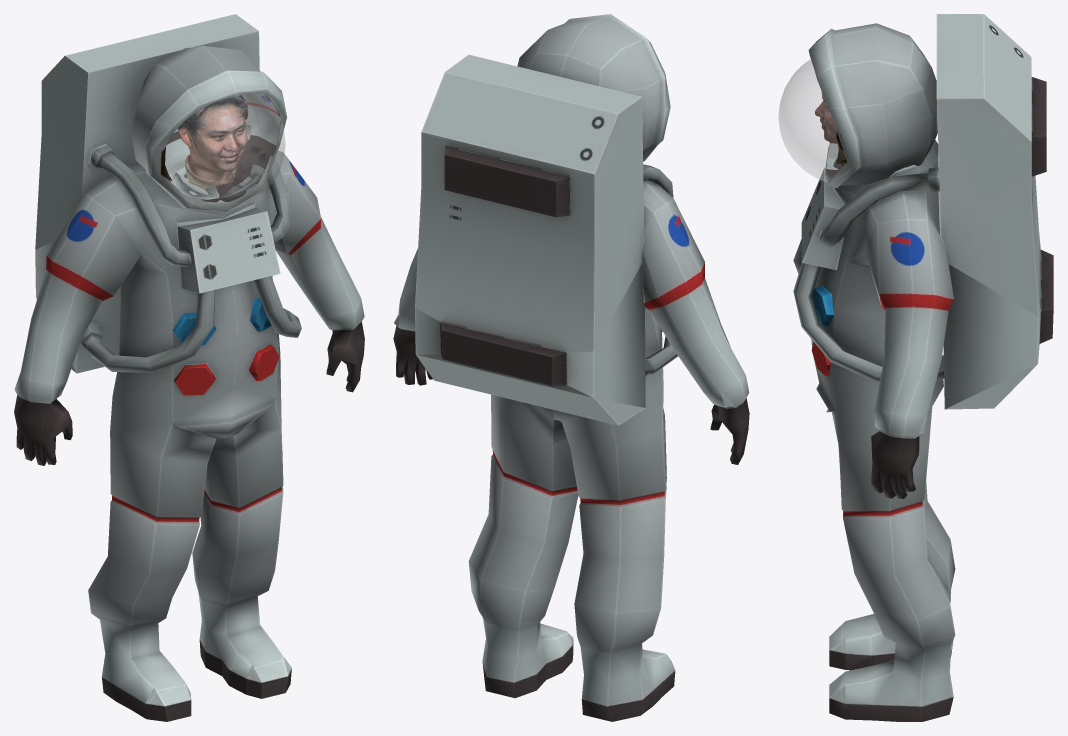
The model's file is anjo_astronaut.glb.
The picture shows the model from 3 angles, left to right: view 1: azimuth 30°, elevation 25°; view 2: azimuth 150°, elevation 25°; view 3: azimuth 270°, elevation 25°; orthographic projection.
Parts seen in each view (by area): view 1: Sphere.003_primitive1, Sphere.003_primitive0, Sphere.003_primitive2; view 2: Sphere.003_primitive1; view 3: Sphere.003_primitive1, Sphere.003_primitive0, Sphere.003_primitive2.
Boxes of the visible parts, x1,y1,x2,y2 form: Sphere.003_primitive1: [14, 14, 364, 721]; Sphere.003_primitive0: [165, 93, 285, 210]; Sphere.003_primitive2: [178, 95, 247, 189]; Sphere.003_primitive1: [393, 14, 749, 721]; Sphere.003_primitive1: [793, 14, 1053, 721]; Sphere.003_primitive0: [778, 59, 845, 181]; Sphere.003_primitive2: [815, 91, 837, 143].
Size of the model in its own units: 2.24 by 4.02 by 1.53.
3 materials, 2 textured.
